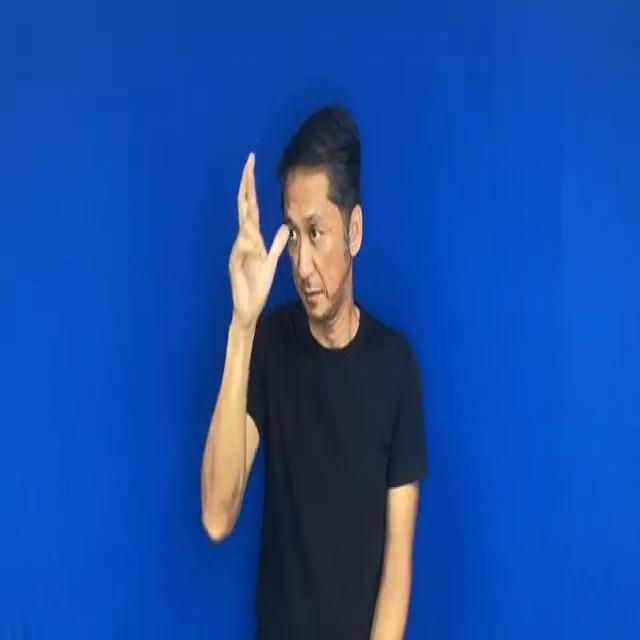chicken: (220, 144, 290, 330)
